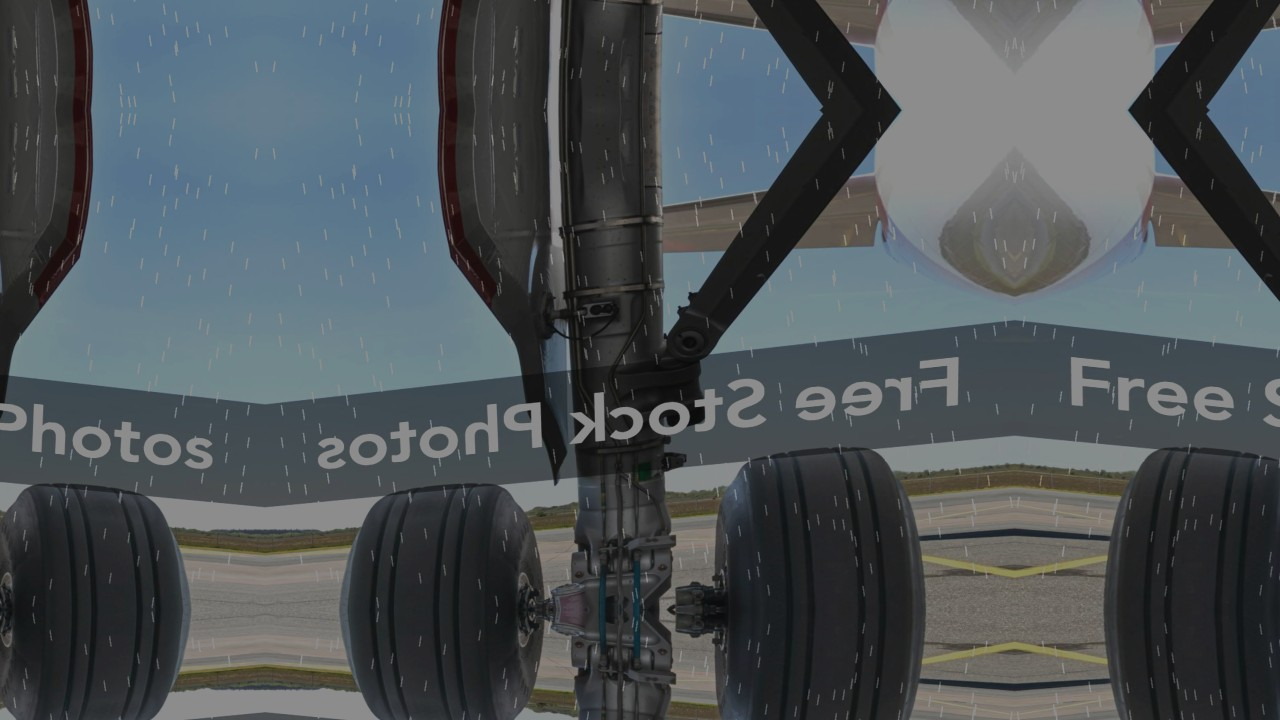wheel: (699, 438, 952, 610), (1078, 438, 1280, 610), (323, 476, 553, 610), (699, 610, 952, 720), (0, 476, 207, 610), (323, 610, 553, 720), (0, 610, 207, 720), (1078, 610, 1280, 720)
